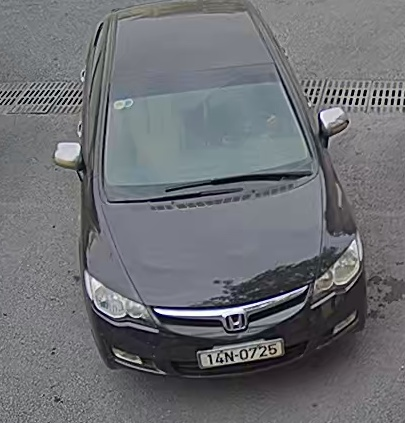vehicle plate: (187, 336, 286, 369)
